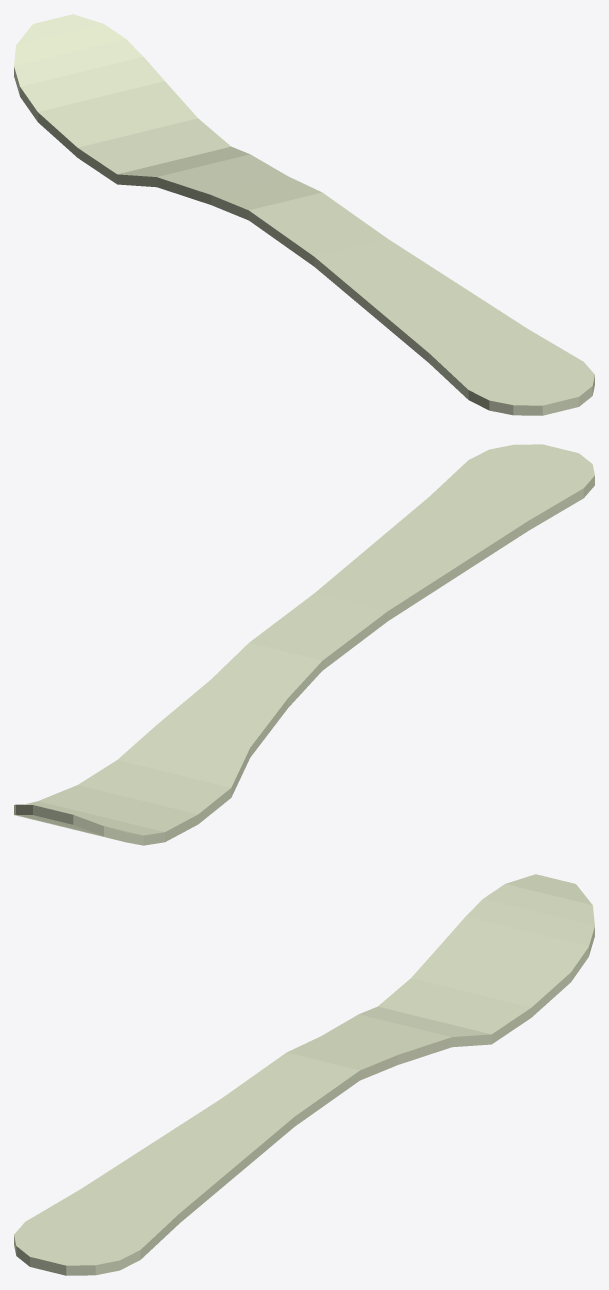
File: SpatelKocher.fbx
3 views of the same model, one above another, from view 1: azimuth 30°, elevation 25°; view 2: azimuth 150°, elevation 25°; view 3: azimuth 330°, elevation 25° (orthographic).
Parts seen in each view (by area): view 1: Cube; view 2: Cube; view 3: Cube.
Part boxes in pixels (bbox=[...]): Cube: bbox=[14, 14, 594, 415]; Cube: bbox=[14, 444, 594, 845]; Cube: bbox=[14, 874, 594, 1275].
Size of the model in its own units: 44.67 by 21.09 by 309.
